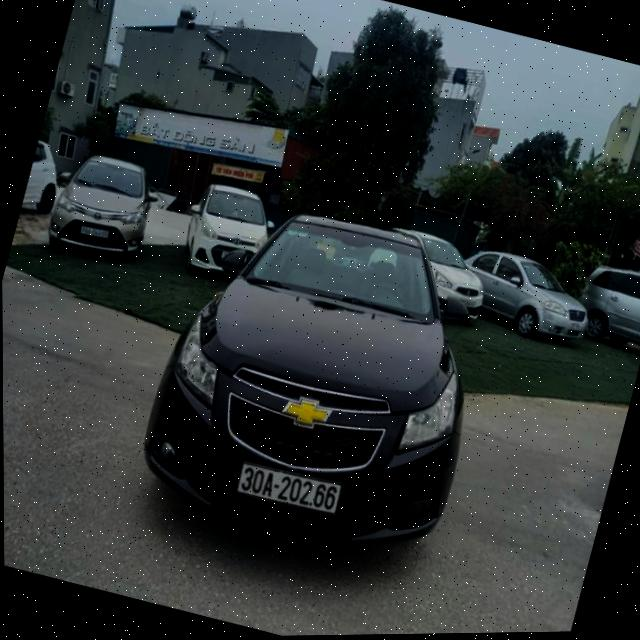car: (126, 169, 512, 585), (450, 239, 601, 351), (41, 141, 167, 272), (382, 222, 498, 332), (174, 174, 278, 289), (566, 253, 640, 362), (17, 131, 71, 225)
plate: (230, 452, 349, 525), (71, 211, 114, 249)
